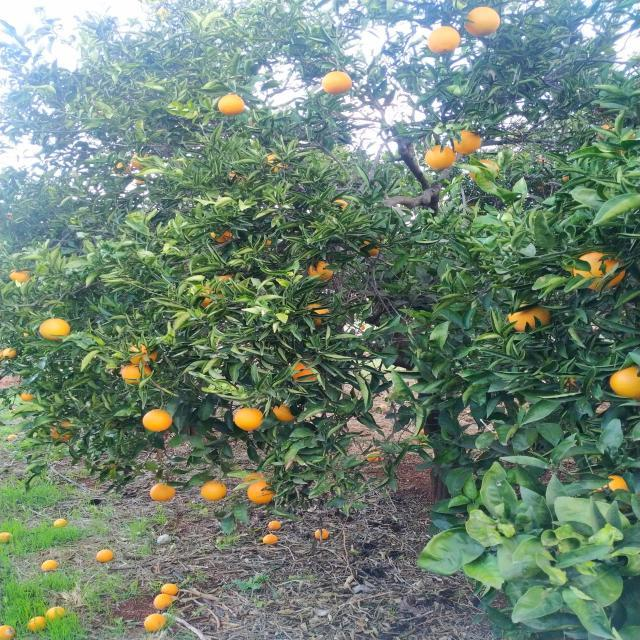Jeruk Sudah Matang: (574, 251, 624, 291), (508, 307, 550, 333), (466, 6, 502, 36), (610, 366, 640, 399), (428, 26, 461, 54), (320, 70, 354, 96), (426, 144, 458, 171), (454, 130, 486, 156), (594, 472, 630, 495), (234, 406, 266, 431), (142, 408, 173, 432), (40, 319, 70, 343), (218, 94, 247, 118), (246, 481, 276, 504), (200, 481, 228, 502), (288, 362, 316, 382), (120, 366, 152, 382), (150, 484, 176, 503), (270, 403, 294, 423), (306, 304, 329, 324), (52, 422, 75, 442), (143, 612, 165, 632), (153, 592, 173, 612), (310, 262, 332, 280), (202, 288, 224, 306), (210, 226, 233, 242), (45, 606, 67, 622), (26, 616, 48, 632), (0, 625, 17, 640), (96, 549, 114, 563), (10, 271, 30, 283), (162, 583, 180, 596), (40, 560, 58, 572), (0, 532, 15, 544), (314, 529, 329, 540), (262, 534, 278, 544), (3, 348, 16, 360), (21, 392, 34, 402), (268, 520, 281, 530), (366, 453, 382, 461), (54, 518, 66, 528)
